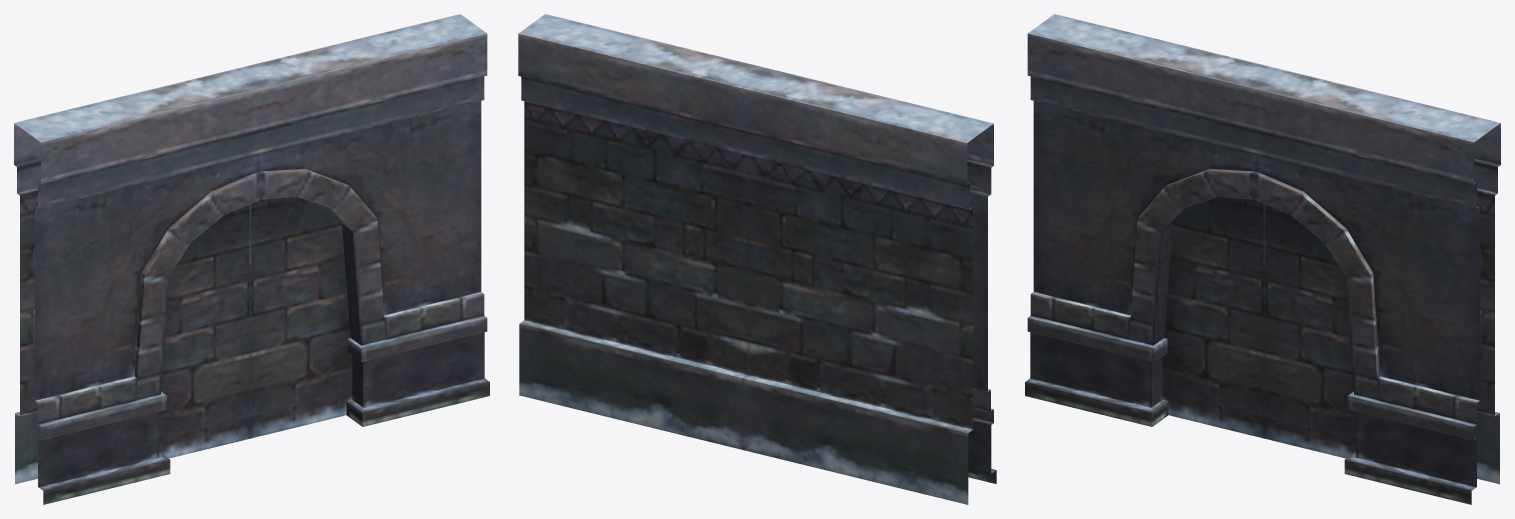
Rendered from yw_anxizhidi_damen04.FBX.
3 views of the same model, side by side, from view 1: azimuth 30°, elevation 25°; view 2: azimuth 150°, elevation 25°; view 3: azimuth 330°, elevation 25° (orthographic).
Parts seen in each view (by area): view 1: yw_anxizhidi_damen04; view 2: yw_anxizhidi_damen04; view 3: yw_anxizhidi_damen04.
Boxes of the visible parts, x1=… form: yw_anxizhidi_damen04: x1=14, y1=14, x2=489, y2=504; yw_anxizhidi_damen04: x1=518, y1=14, x2=996, y2=504; yw_anxizhidi_damen04: x1=1025, y1=14, x2=1500, y2=504.
Bounding box in the file's own units: 512 × 395 × 58.02.
